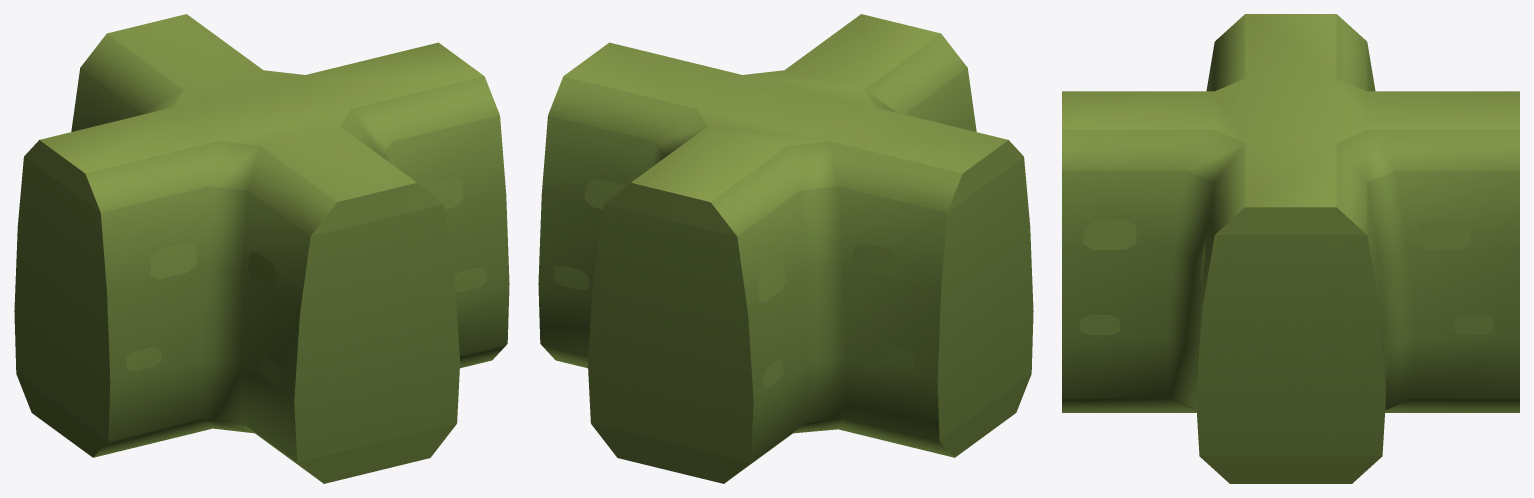
The model's file is hedge_element_X.fbx.
3 views of the same model, side by side, from view 1: azimuth 30°, elevation 25°; view 2: azimuth 150°, elevation 25°; view 3: azimuth 270°, elevation 25° (orthographic).
Parts seen in each view (by area): view 1: hedge_element_X; view 2: hedge_element_X; view 3: hedge_element_X.
Part boxes in pixels (box(x1,y1,x2,y2)): hedge_element_X: box(14, 14, 509, 483); hedge_element_X: box(538, 14, 1033, 483); hedge_element_X: box(1062, 14, 1519, 483).
Bounding box in the file's own units: 300 × 200 × 300.
